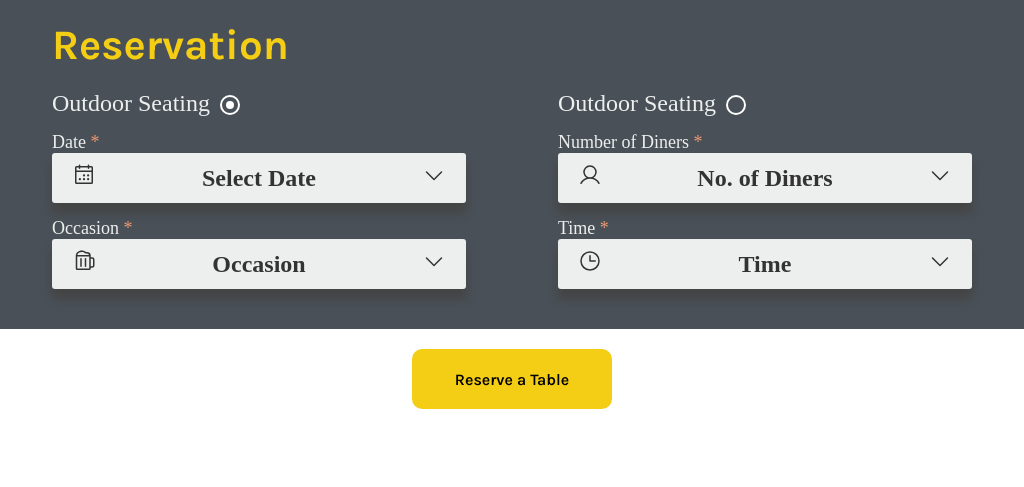
Test case: Reservation Form › Submit button is disabled when reservation form is incompleted
What coordinates should you click on to do the following:
click the button "Reserve a Table"
I would click on:
 (512, 379)
Its box is [412,349,612,409].
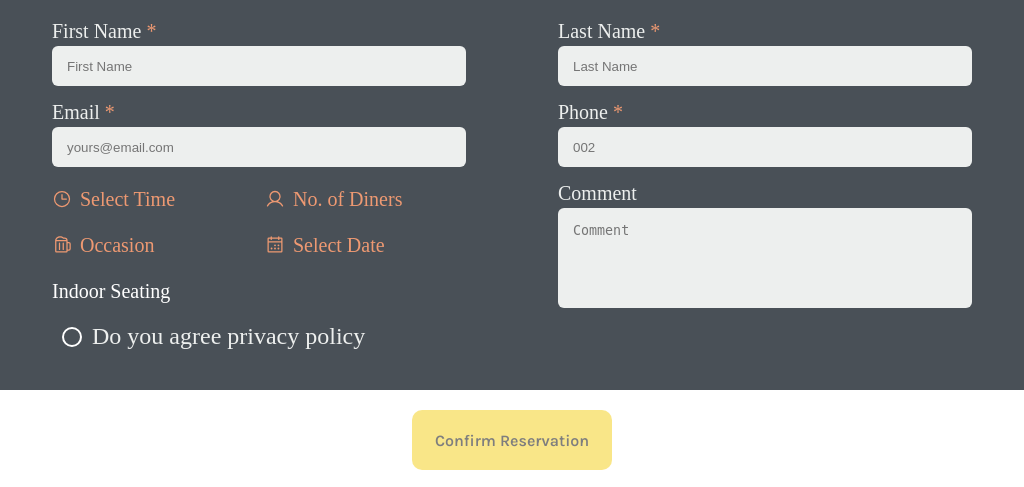
Expected: the button "Confirm Reservation" is disabled, [412,410,612,470]
